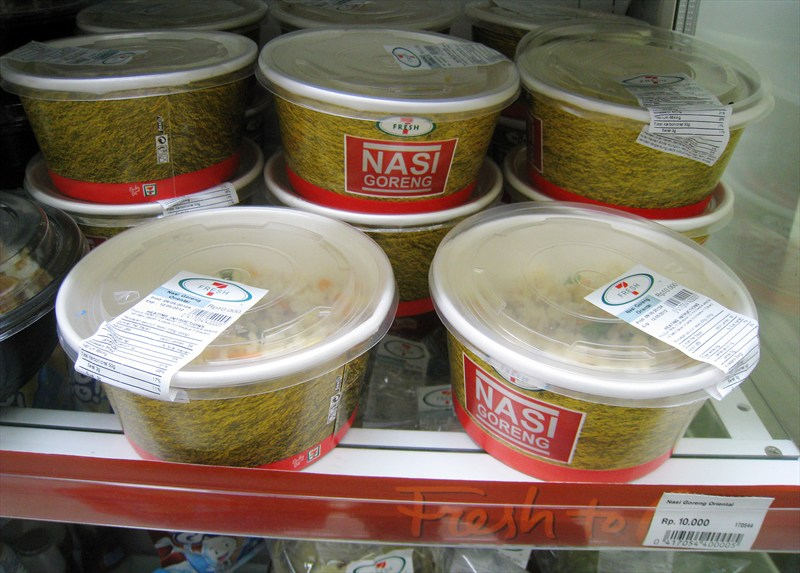Nasi Goreng: (52, 123, 763, 502)
